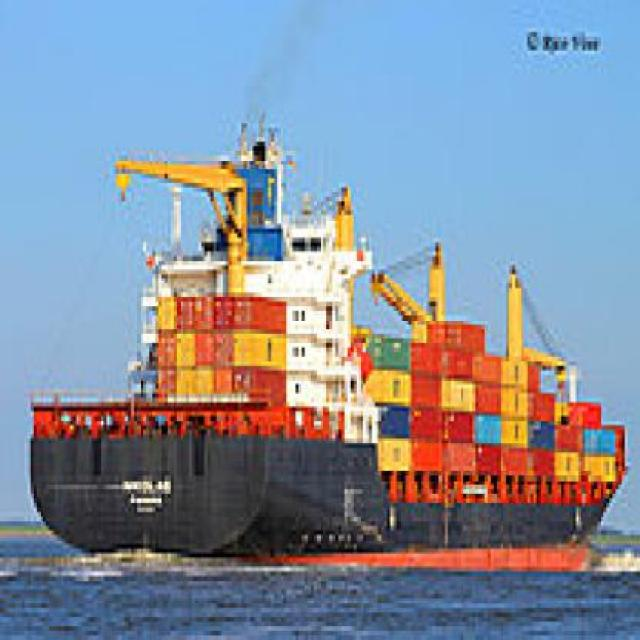container: (29, 97, 635, 577)
